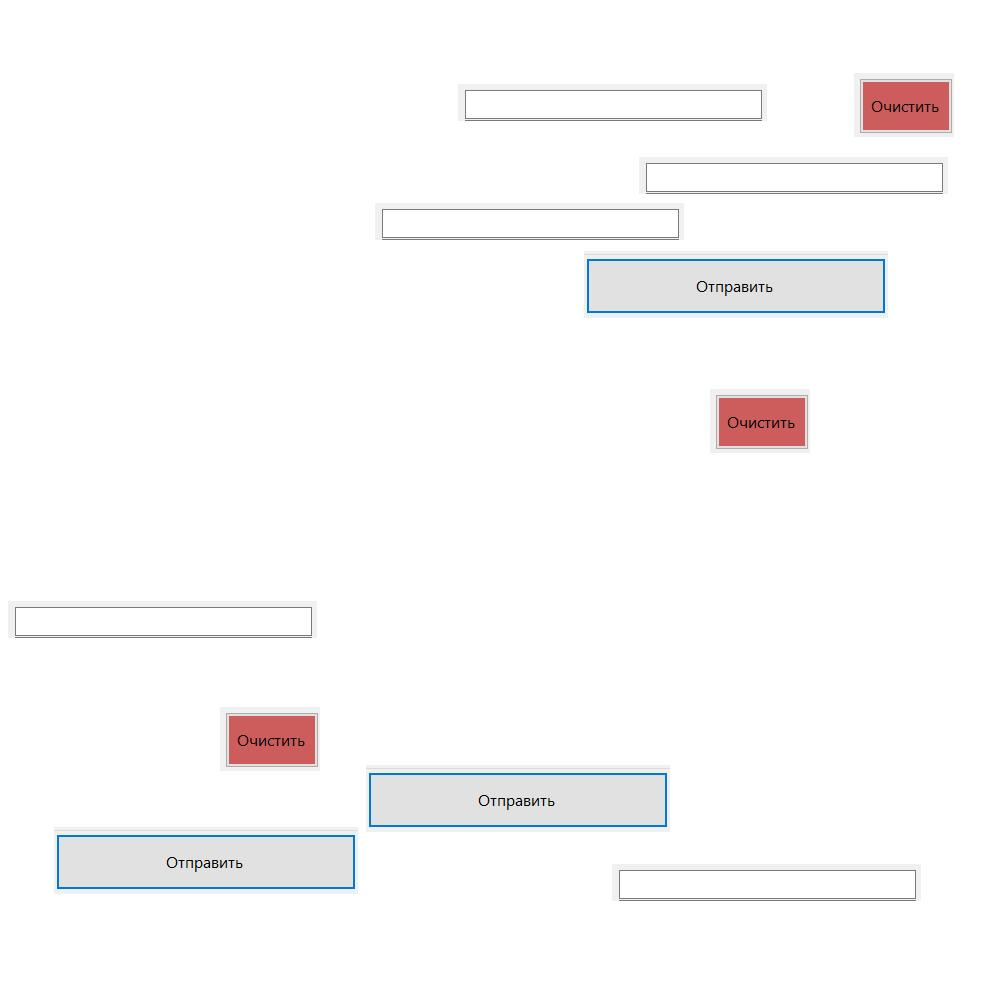Button: (366, 765, 670, 832), (54, 827, 358, 894), (584, 251, 888, 318), (220, 707, 320, 771), (854, 73, 954, 137), (710, 389, 810, 453)
EditText-: (375, 203, 684, 240), (612, 864, 921, 901), (8, 601, 317, 638), (639, 157, 948, 194), (458, 84, 767, 121)
